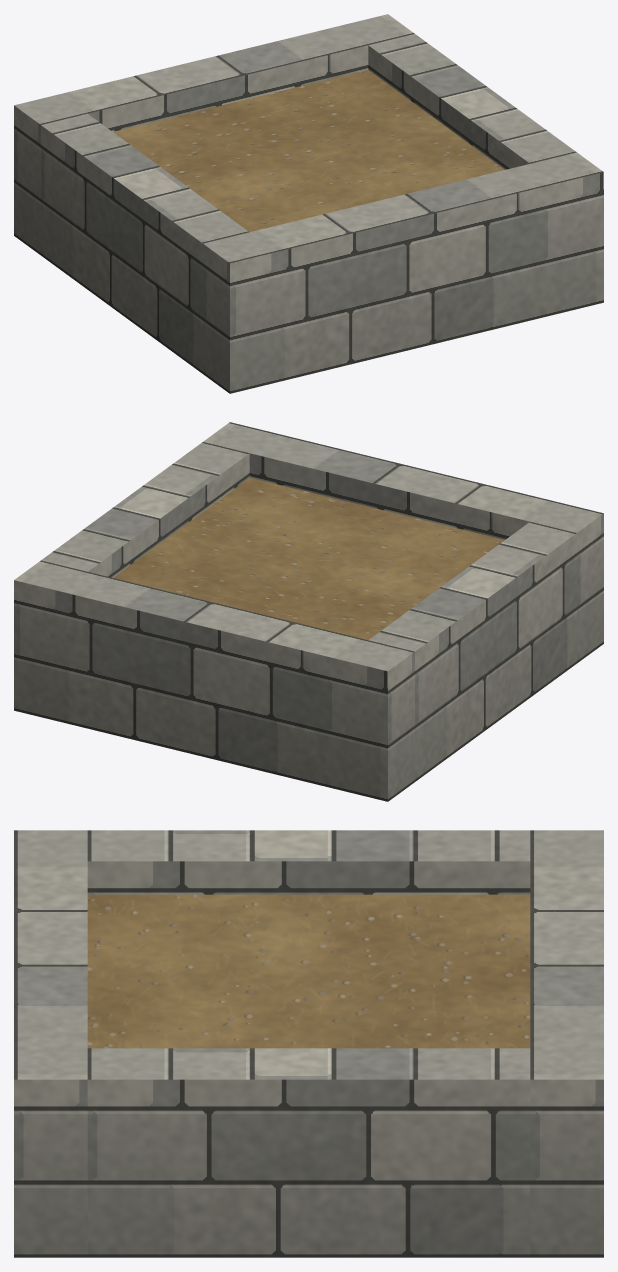
File: planter.glb
3 renders of one model, top to bottom at view 1: azimuth 30°, elevation 25°; view 2: azimuth 150°, elevation 25°; view 3: azimuth 270°, elevation 25°, orthographic. The views are drawn at different scales.
Parts seen in each view (by area): view 1: planter; view 2: planter; view 3: planter.
Part boxes in pixels (box(x1,y1,x2,y2)): planter: box(14, 14, 603, 393); planter: box(14, 422, 603, 801); planter: box(14, 830, 603, 1257).
Size of the model in its own units: 2.4 by 0.8 by 2.4.
Materials: 2 (2 with a texture image).
